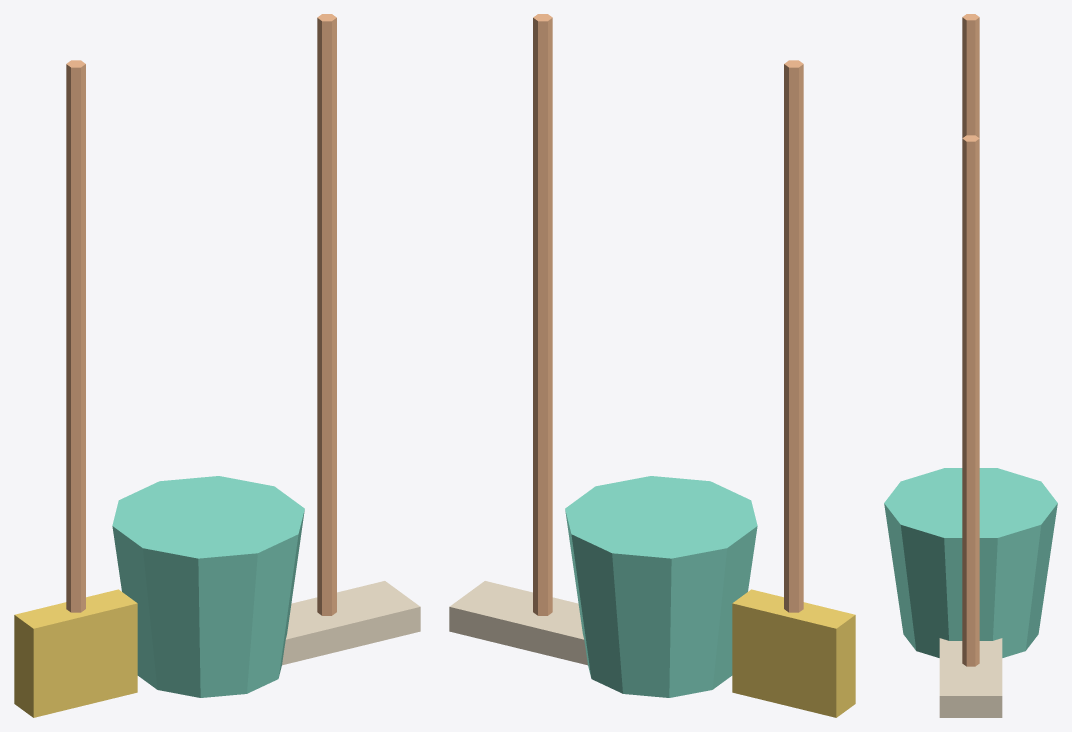
3 renders of one model, left to right at view 1: azimuth 30°, elevation 25°; view 2: azimuth 150°, elevation 25°; view 3: azimuth 270°, elevation 25°, orthographic. The views are drawn at different scales.
Visible parts, largest first — view 1: Bucket, Bristles, Mop pole, Broom pole, Mop head; view 2: Bucket, Bristles, Mop pole, Broom pole, Mop head; view 3: Bucket, Mop pole, Mop head, Broom pole.
Boxes of the visible parts, x1,y1,x2,y2 form: Bucket: (112, 476, 304, 697); Bristles: (14, 589, 137, 717); Mop pole: (317, 14, 336, 615); Broom pole: (66, 60, 85, 612); Mop head: (282, 581, 420, 665); Bucket: (565, 476, 757, 697); Bristles: (732, 589, 855, 717); Mop pole: (533, 14, 552, 615); Broom pole: (784, 60, 803, 612); Mop head: (449, 581, 587, 665); Bucket: (884, 468, 1057, 657); Mop pole: (962, 135, 979, 666); Mop head: (939, 638, 1002, 717); Broom pole: (962, 14, 979, 137).
Size of the model in its own units: 0.8 by 1.28 by 0.36.
1 material, 1 textured.
